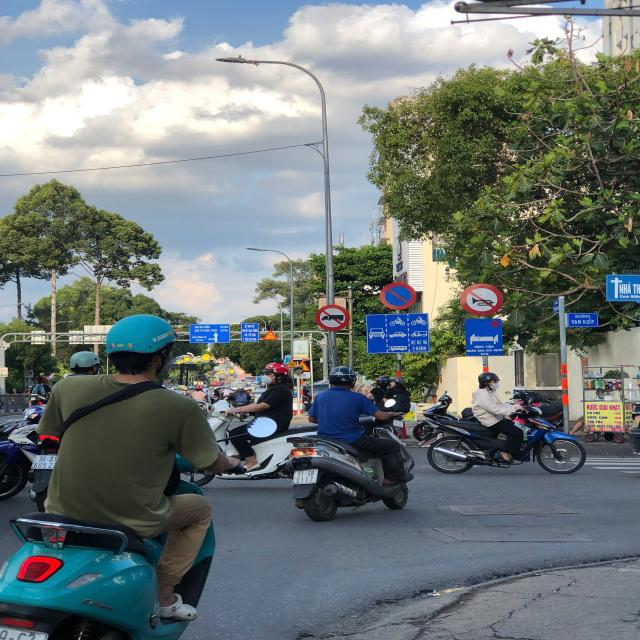Bien bao cam do xe: (376, 280, 422, 311)
Bien bao cam xe so-mi ro-mooc: (314, 302, 355, 334)
